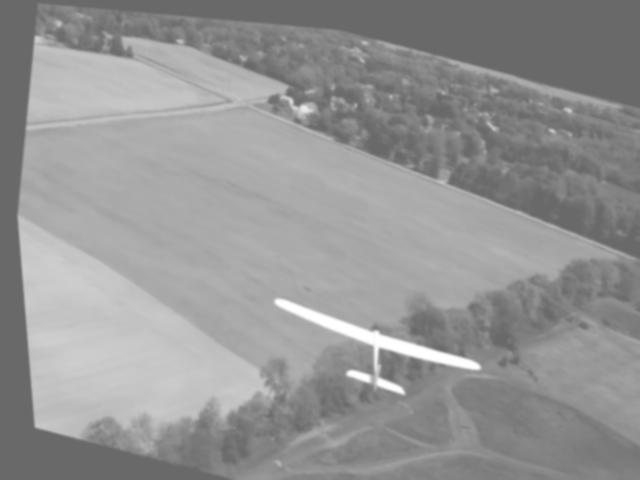hedef: (242, 270, 491, 418)
